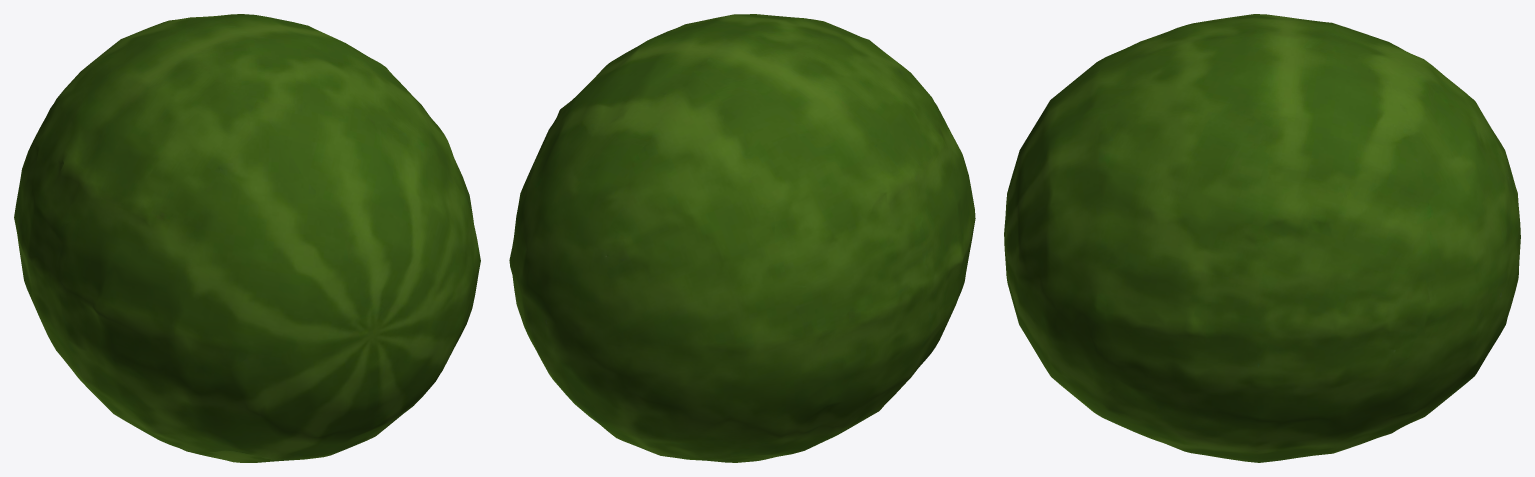
File: Sandia modelo 3D.glb
3 views of the same model, side by side, from view 1: azimuth 30°, elevation 25°; view 2: azimuth 150°, elevation 25°; view 3: azimuth 270°, elevation 25° (orthographic).
Visible parts, largest first — view 1: tripo_node_788922ef-3d38-4f82-8e4e-27b88404a521; view 2: tripo_node_788922ef-3d38-4f82-8e4e-27b88404a521; view 3: tripo_node_788922ef-3d38-4f82-8e4e-27b88404a521.
Part boxes in pixels (bbox=[...]): tripo_node_788922ef-3d38-4f82-8e4e-27b88404a521: bbox=[14, 14, 480, 462]; tripo_node_788922ef-3d38-4f82-8e4e-27b88404a521: bbox=[509, 14, 975, 462]; tripo_node_788922ef-3d38-4f82-8e4e-27b88404a521: bbox=[1004, 14, 1520, 462].
Size of the model in its own units: 0.8572 by 0.8635 by 0.9933.
Materials: 1 (1 with a texture image).
